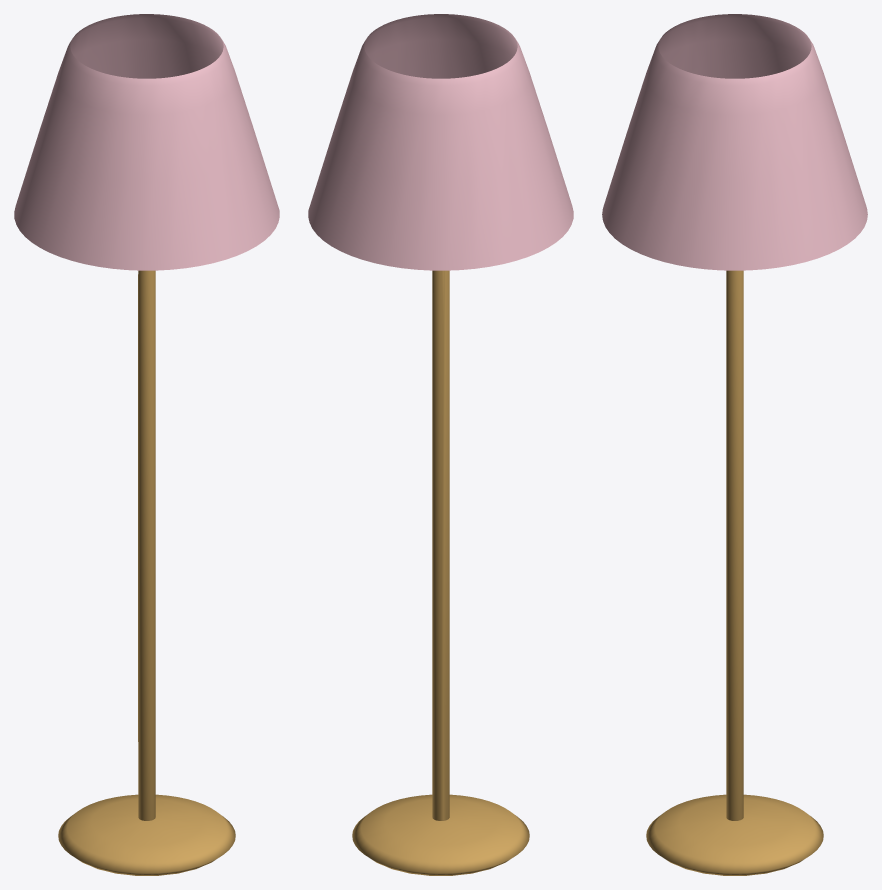
File: deco_lampara.glb
The picture shows the model from 3 angles, left to right: view 1: azimuth 30°, elevation 25°; view 2: azimuth 150°, elevation 25°; view 3: azimuth 270°, elevation 25°; orthographic projection.
Parts seen in each view (by area): view 1: pantalla lámpara, base lámpara, vara lámpara; view 2: pantalla lámpara, base lámpara, vara lámpara; view 3: pantalla lámpara, base lámpara, vara lámpara.
Part boxes in pixels (bbox=[...]): pantalla lámpara: bbox=[14, 14, 279, 270]; base lámpara: bbox=[58, 794, 235, 875]; vara lámpara: bbox=[138, 270, 155, 820]; pantalla lámpara: bbox=[308, 14, 573, 270]; base lámpara: bbox=[352, 794, 529, 875]; vara lámpara: bbox=[432, 270, 449, 820]; pantalla lámpara: bbox=[602, 14, 867, 270]; base lámpara: bbox=[646, 794, 823, 875]; vara lámpara: bbox=[726, 270, 743, 820].
Size of the model in its own units: 0.5157 by 1.71 by 0.5157.
